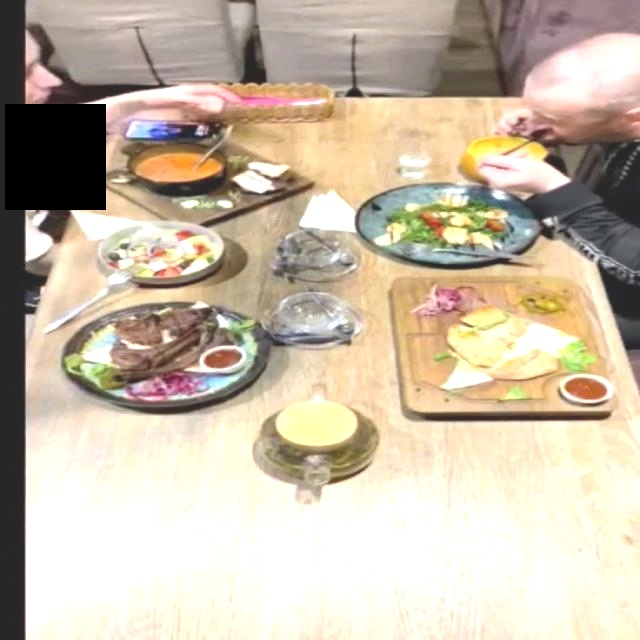meat: (377, 274, 621, 415), (60, 300, 273, 408)
salad: (357, 181, 543, 265), (96, 219, 227, 284)
soup: (91, 133, 317, 226), (460, 136, 547, 182)
tea: (239, 374, 386, 497)
